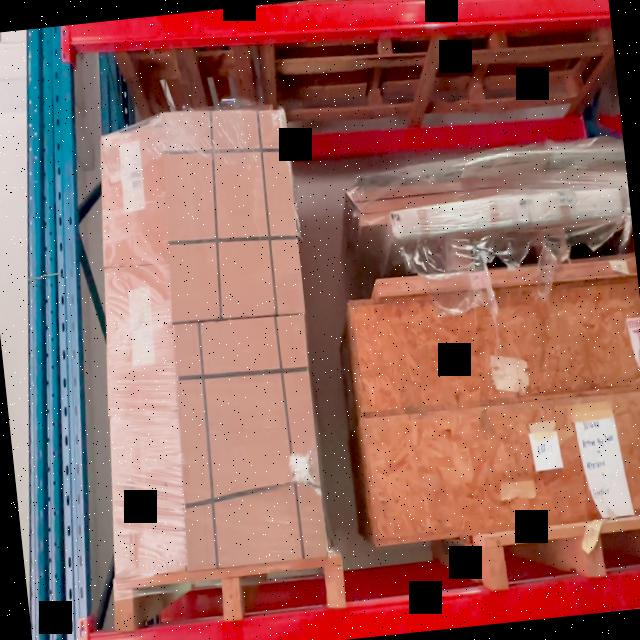box: (174, 318, 328, 568), (160, 109, 302, 320), (111, 412, 186, 574), (105, 264, 176, 413), (101, 130, 168, 266)
